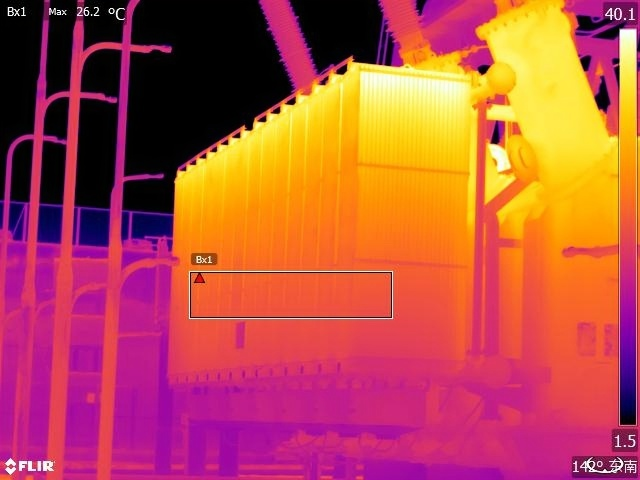transformer: (153, 46, 475, 399)
tube: (258, 1, 321, 88), (374, 1, 436, 58)
